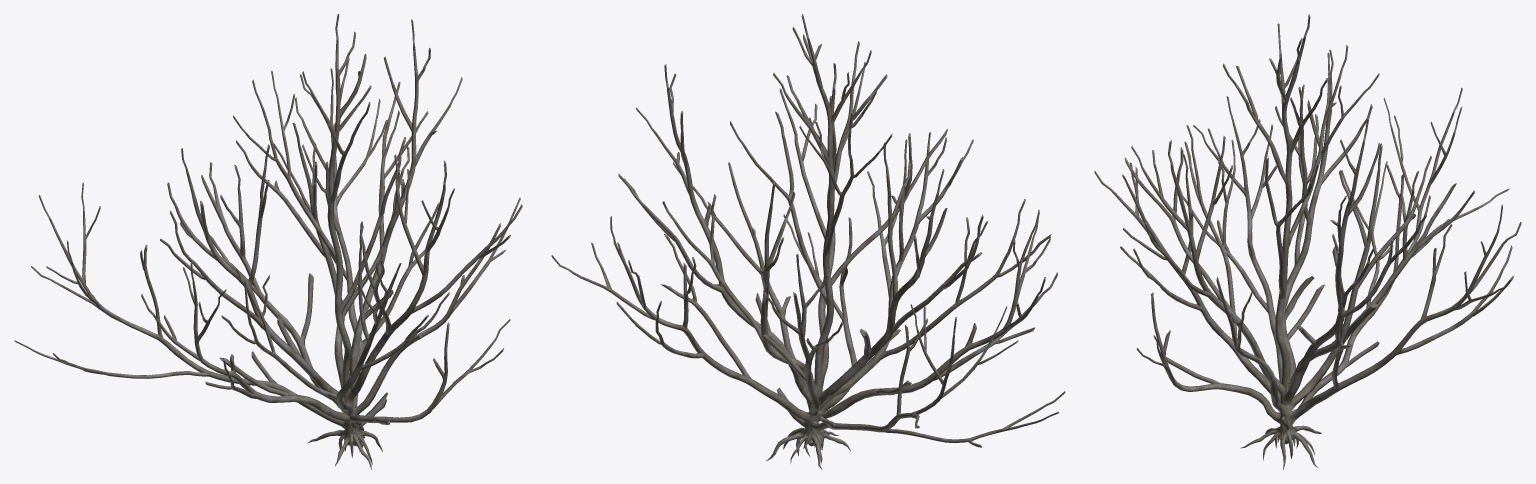
Rendered from Salix elaeagnos HD_Dead mat 75_LOD1.fbx.
3 views of the same model, side by side, from view 1: azimuth 30°, elevation 25°; view 2: azimuth 150°, elevation 25°; view 3: azimuth 270°, elevation 25° (orthographic). The views are drawn at different scales.
Parts seen in each view (by area): view 1: Salix_elaeagnos_HD; view 2: Salix_elaeagnos_HD; view 3: Salix_elaeagnos_HD.
Boxes of the visible parts, x1=… form: Salix_elaeagnos_HD: x1=14, y1=14, x2=522, y2=469; Salix_elaeagnos_HD: x1=551, y1=14, x2=1065, y2=469; Salix_elaeagnos_HD: x1=1094, y1=14, x2=1521, y2=469.
Size of the model in its own units: 1.61 by 1.53 by 1.34.
Materials: 2 (2 with a texture image).
